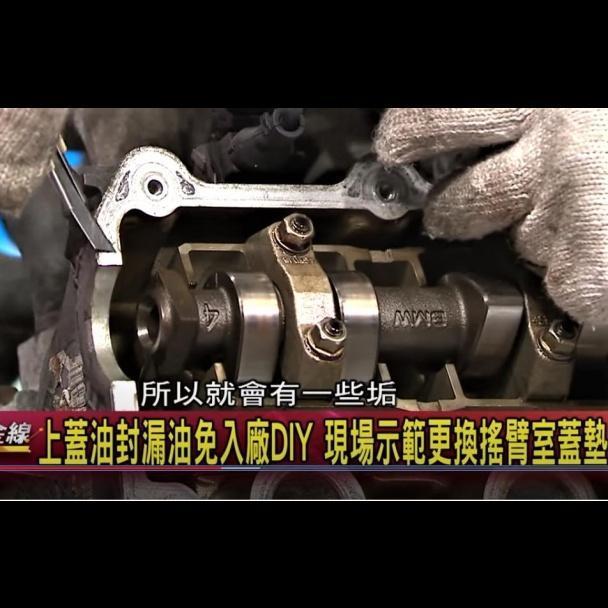hole: (376, 181, 397, 202), (146, 178, 164, 197)
